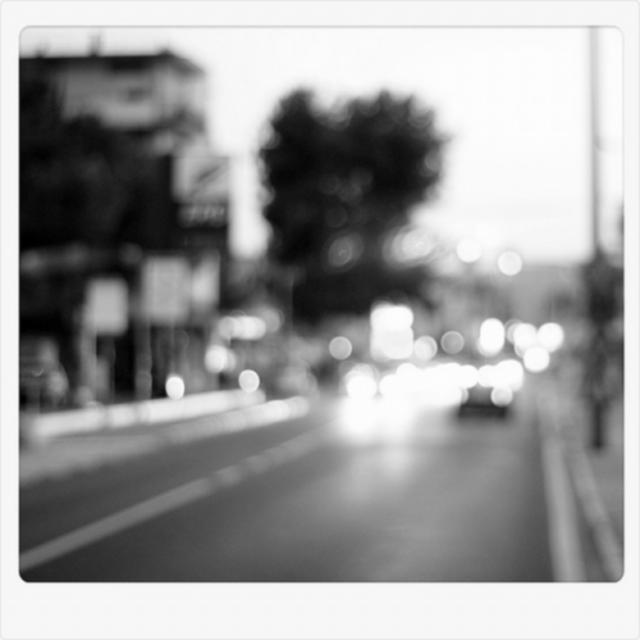car: (449, 384, 506, 418)
